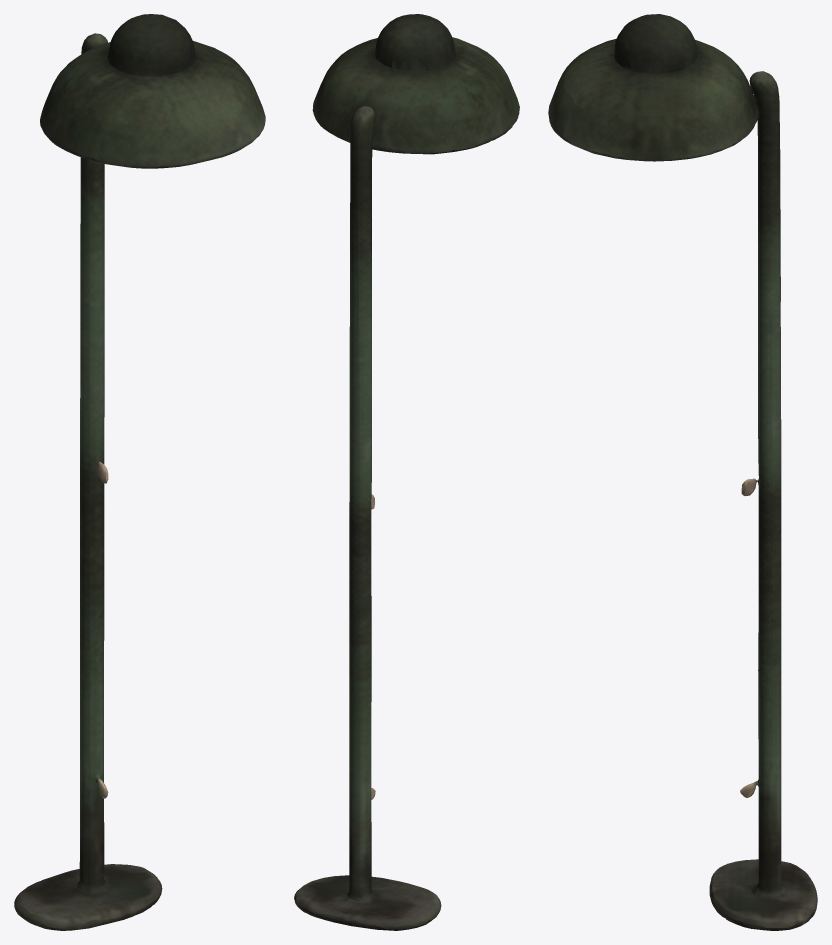
File: lamp.glb
The picture shows the model from 3 angles, left to right: view 1: azimuth 30°, elevation 25°; view 2: azimuth 150°, elevation 25°; view 3: azimuth 270°, elevation 25°; orthographic projection. The views are drawn at different scales.
Parts seen in each view (by area): view 1: world; view 2: world; view 3: world.
Boxes of the visible parts, left/top/right/bottom form: world: left=14, top=14, right=265, bottom=930; world: left=294, top=14, right=519, bottom=930; world: left=548, top=14, right=817, bottom=930.
Size of the model in its own units: 0.8441 by 3.8 by 1.05.
1 material, 1 textured.
